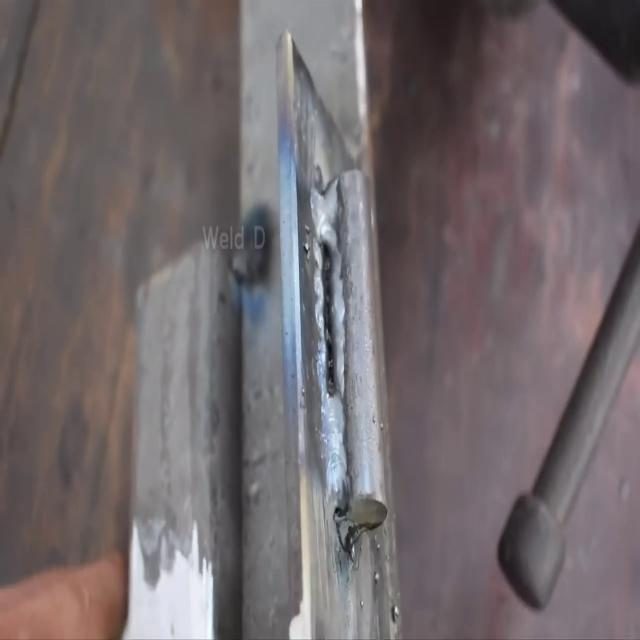Bad Weld: (300, 172, 350, 536)
Defect: (315, 235, 339, 402)
